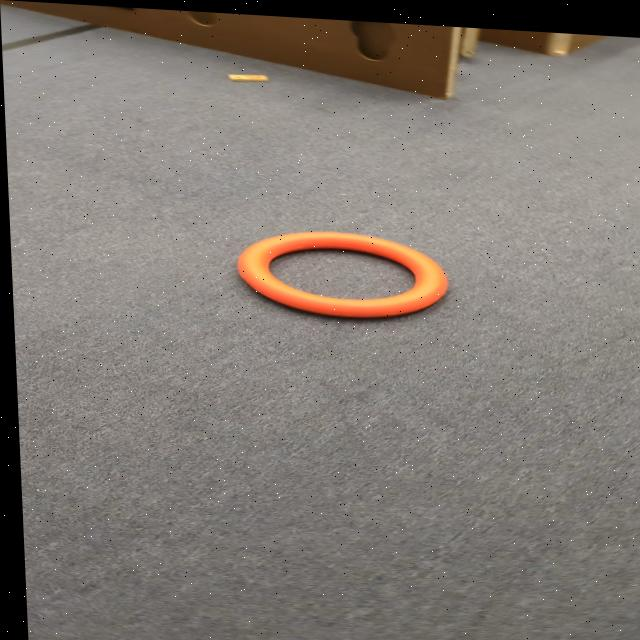note: (230, 222, 447, 317)
